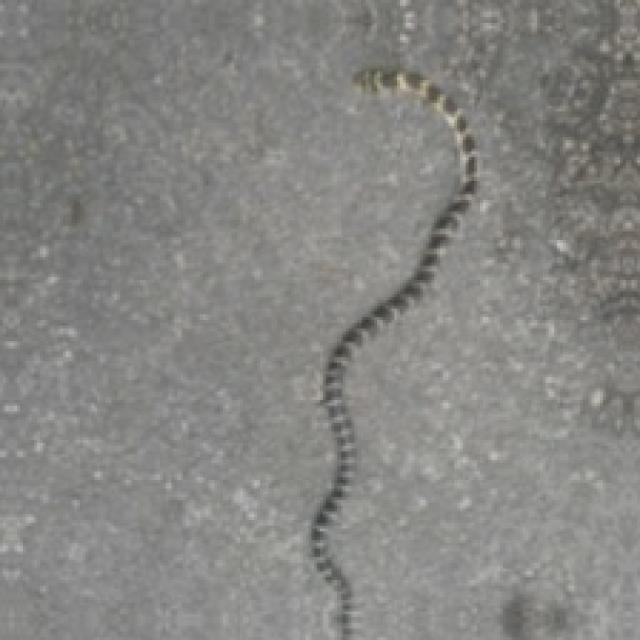king cobra: (311, 69, 474, 637)
